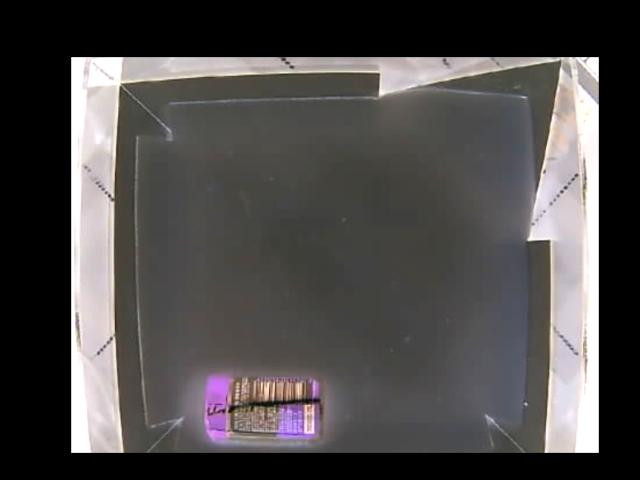Bottle: (203, 373, 323, 446)
